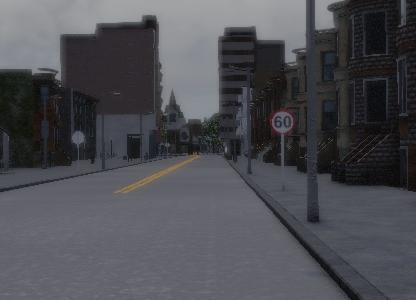Speed_60: (268, 109, 295, 138)
